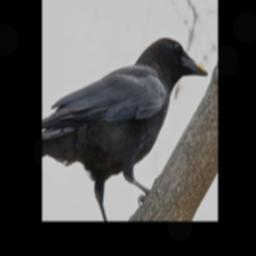Crow: (42, 37, 208, 221)
